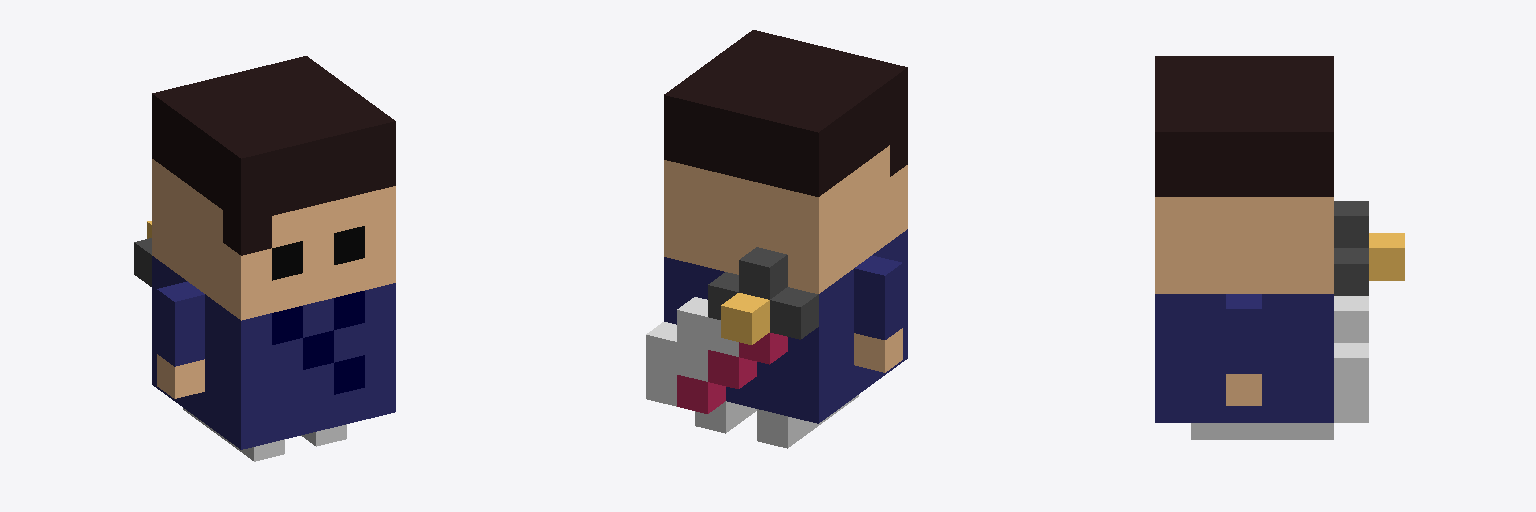
The picture shows the model from 3 angles: view 1: azimuth 30°, elevation 25°; view 2: azimuth 150°, elevation 25°; view 3: azimuth 270°, elevation 25°; orthographic projection.
Parts seen in each view (by area): view 1: Mesh; view 2: Mesh; view 3: Mesh.
Part boxes in pixels (x1,y1,x2,y2): Mesh: (134, 56, 395, 461); Mesh: (646, 30, 907, 448); Mesh: (1155, 56, 1404, 439).
Bounding box in the file's own units: 0.7 × 1 × 0.7.
Materials: 1 (1 with a texture image).